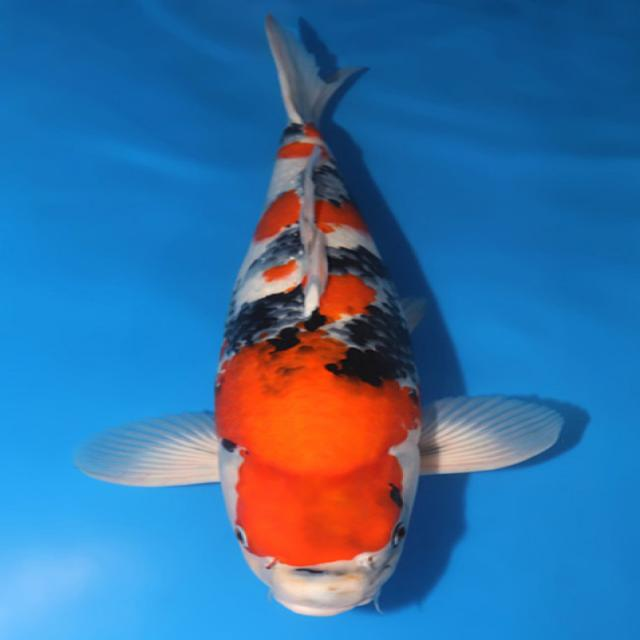Showa: (74, 11, 564, 618)
